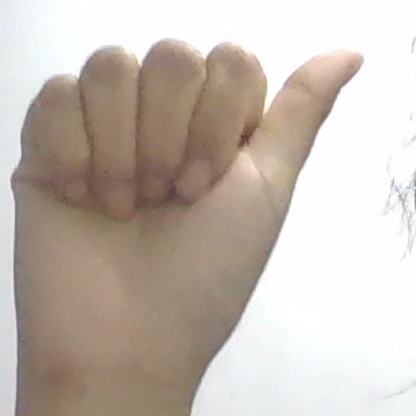A: (12, 40, 363, 387)
